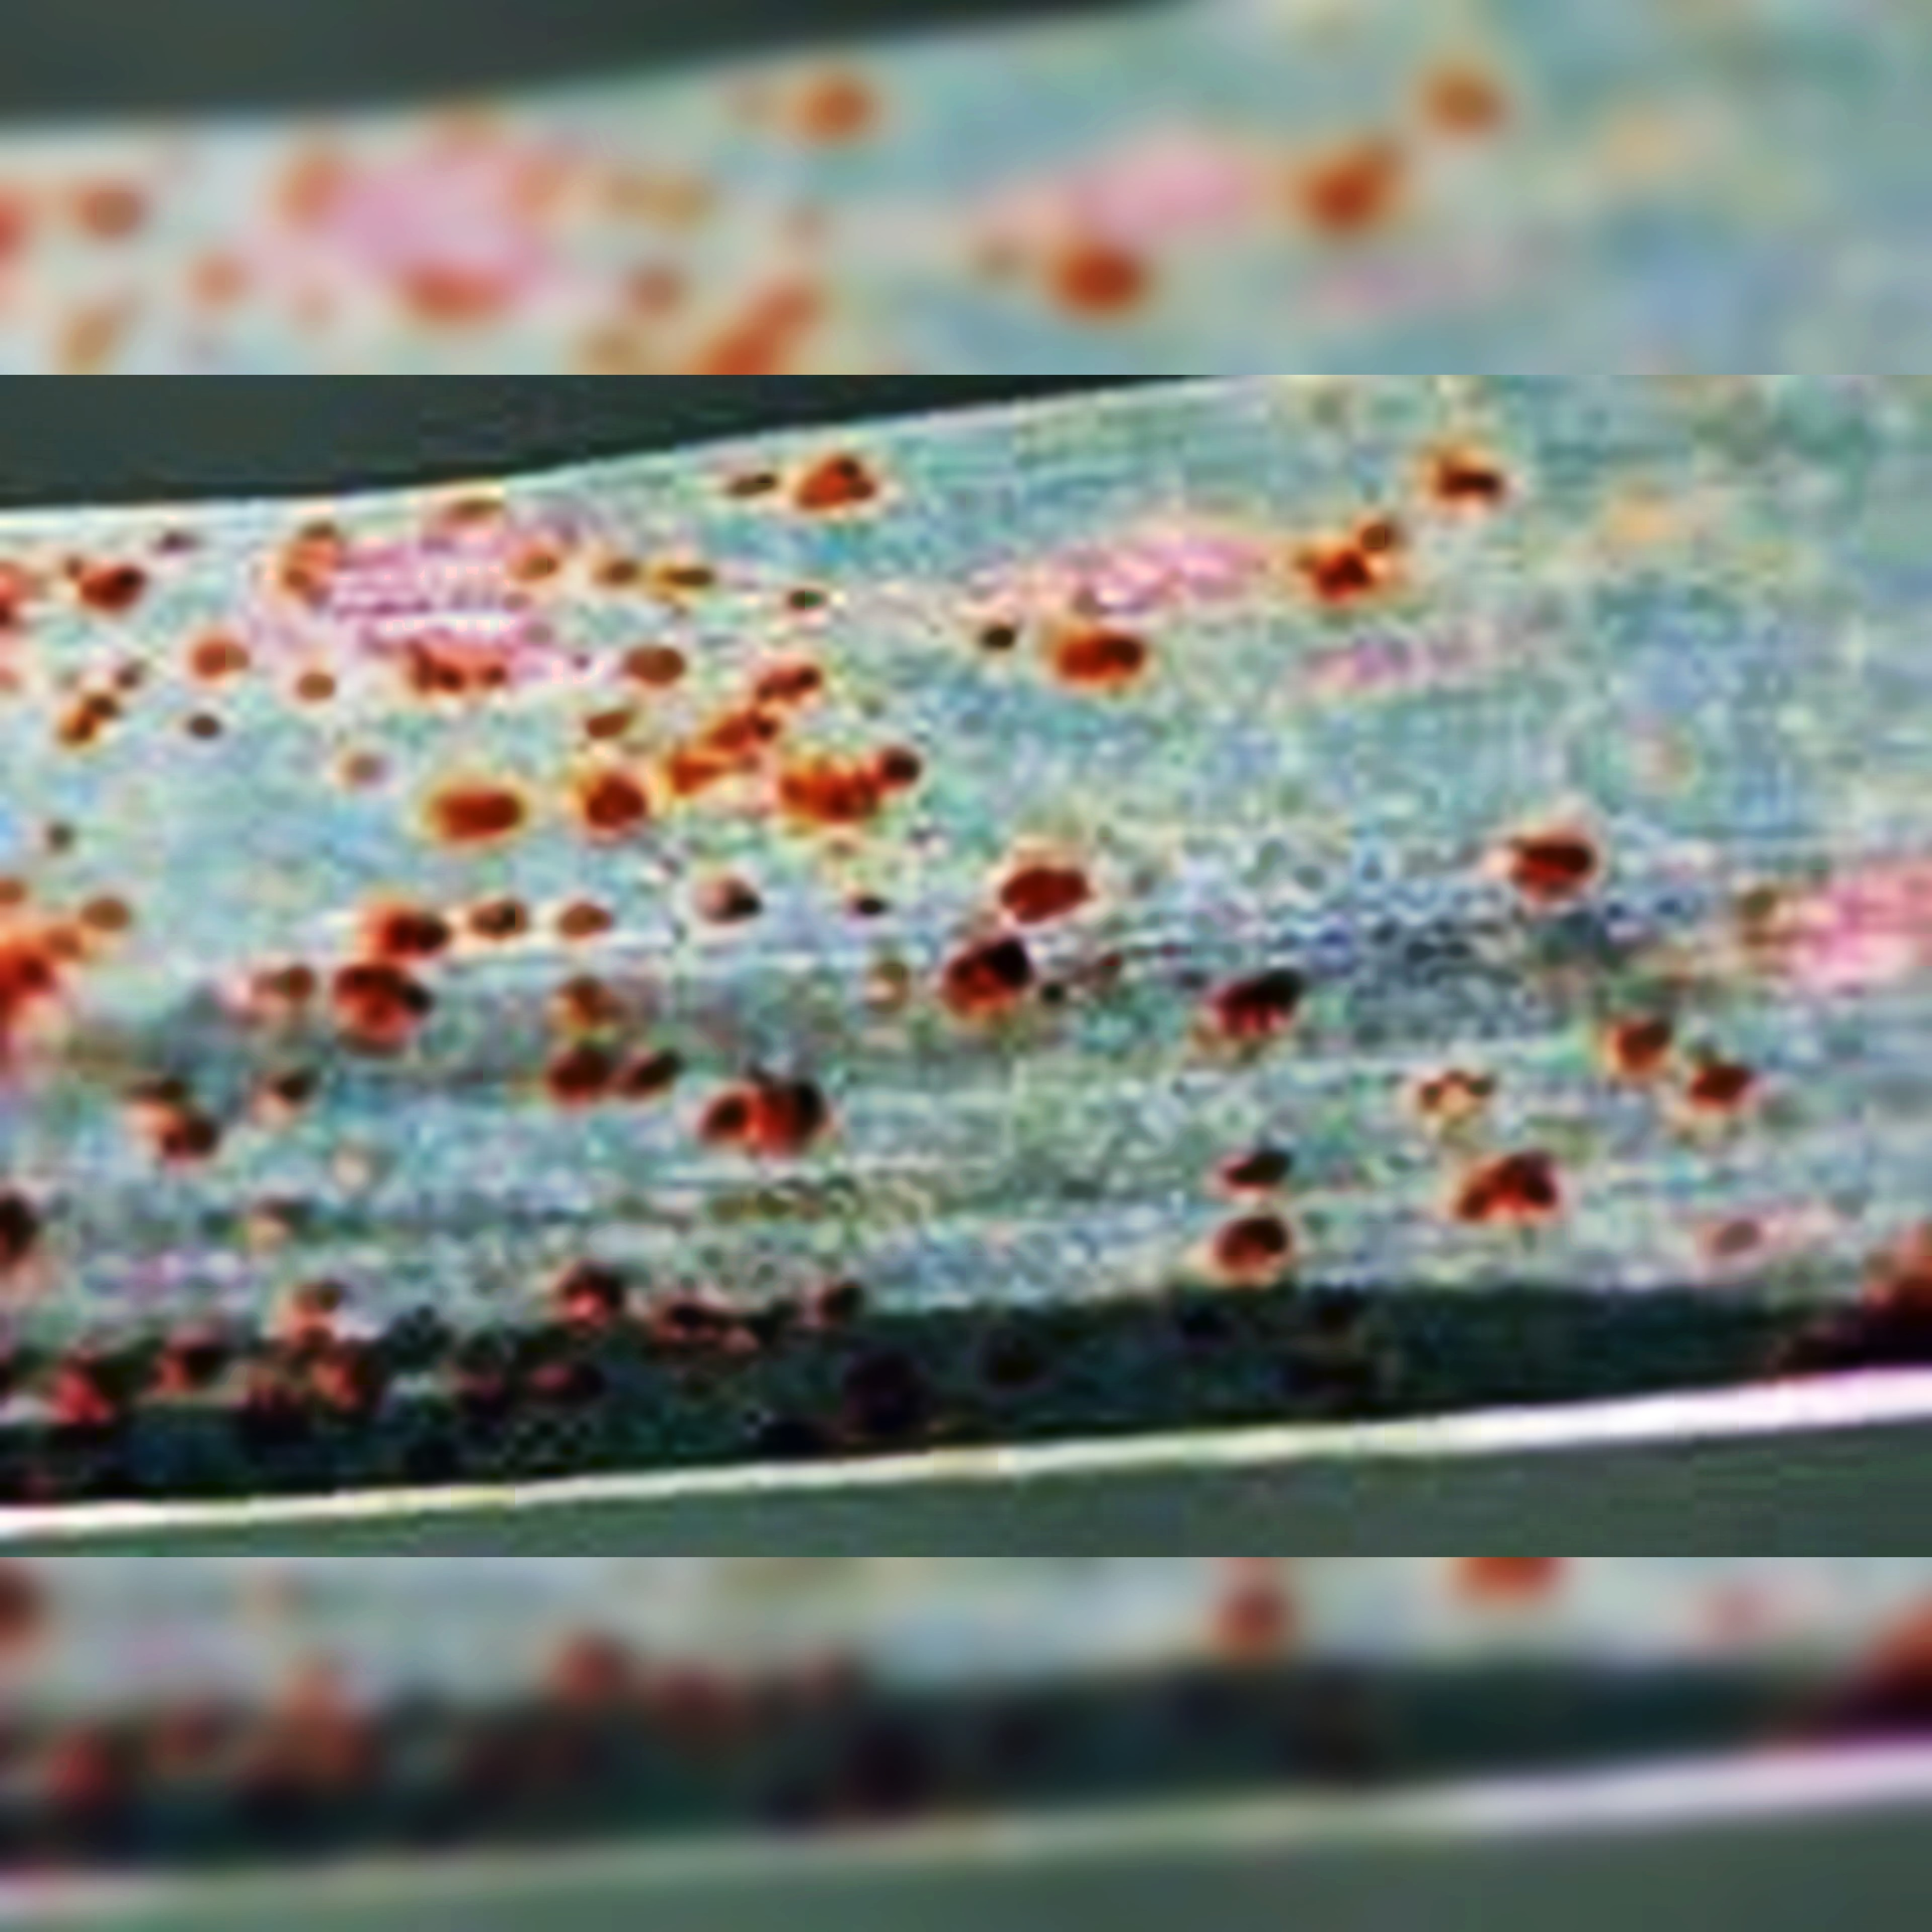Leaf Rust: (96, 375, 1649, 1408)
